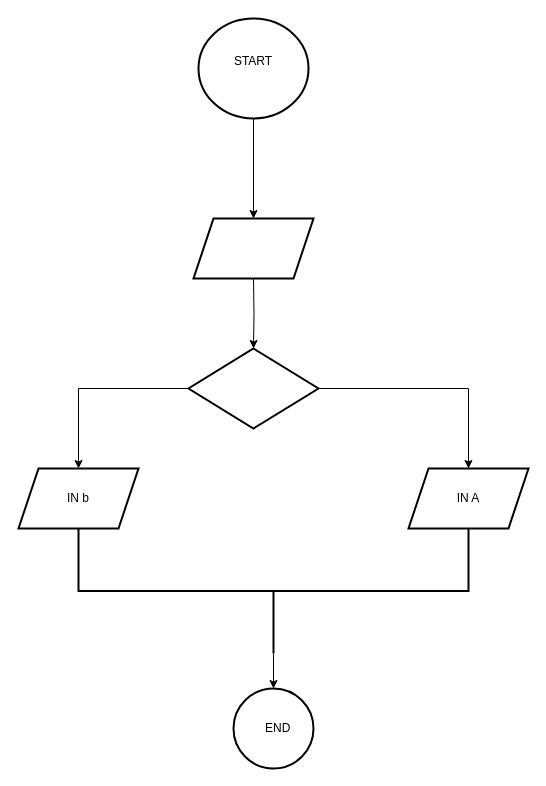
Image size: 546x786. Some labels were removed from this diagram. Each missing label, with the centre of its shape:
"a<b" belongs at pixel 253 388.
"NHÂP a,b" belongs at pixel 253 248.
